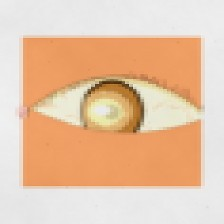corneal_ulcer: (76, 89, 134, 135)
